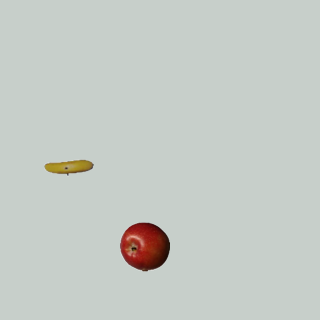Apple Braeburn: (119, 221, 169, 271)
Banana: (43, 142, 93, 192)
